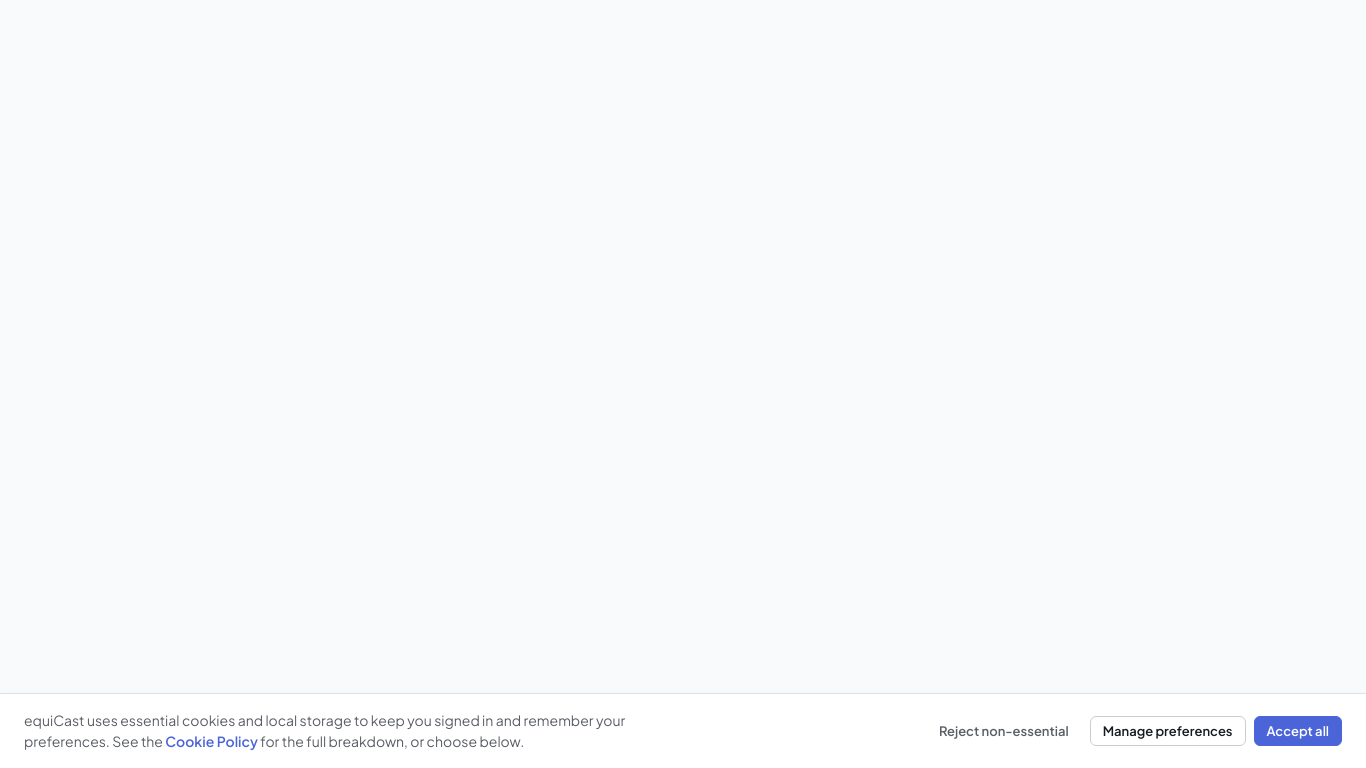
Test: CookieBanner › opens the preferences panel with necessary/functional locked and analytics off by default
The image size is (1366, 768).
Click the button "Manage preferences" at (1168, 731), box [1090,716,1246,746]
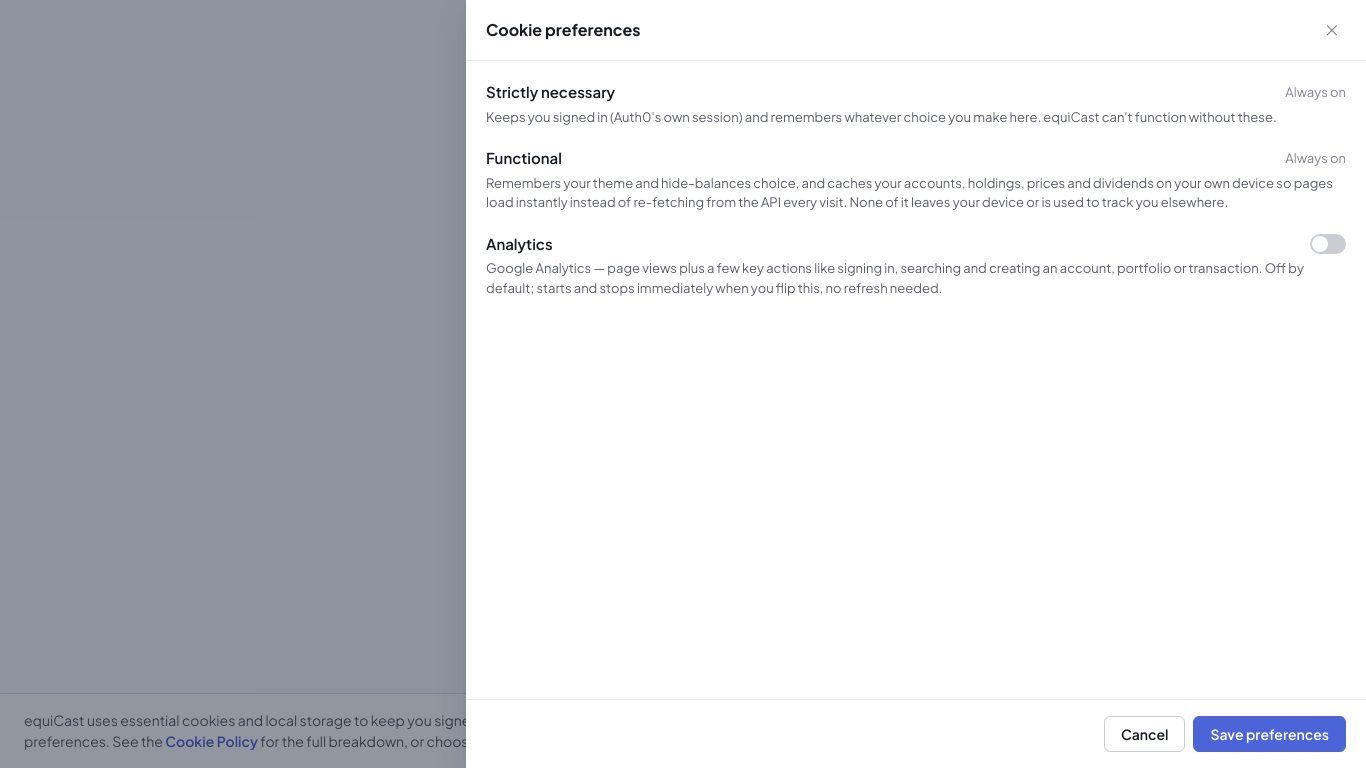
Result: the dialog "Cookie preferences" is shown
Result: the text "Always on" is shown 2 times at [1285,82,1346,102]; [1285,148,1346,168]
Result: the checkbox named "Analytics" is not checked at [1310,234,1346,254]
